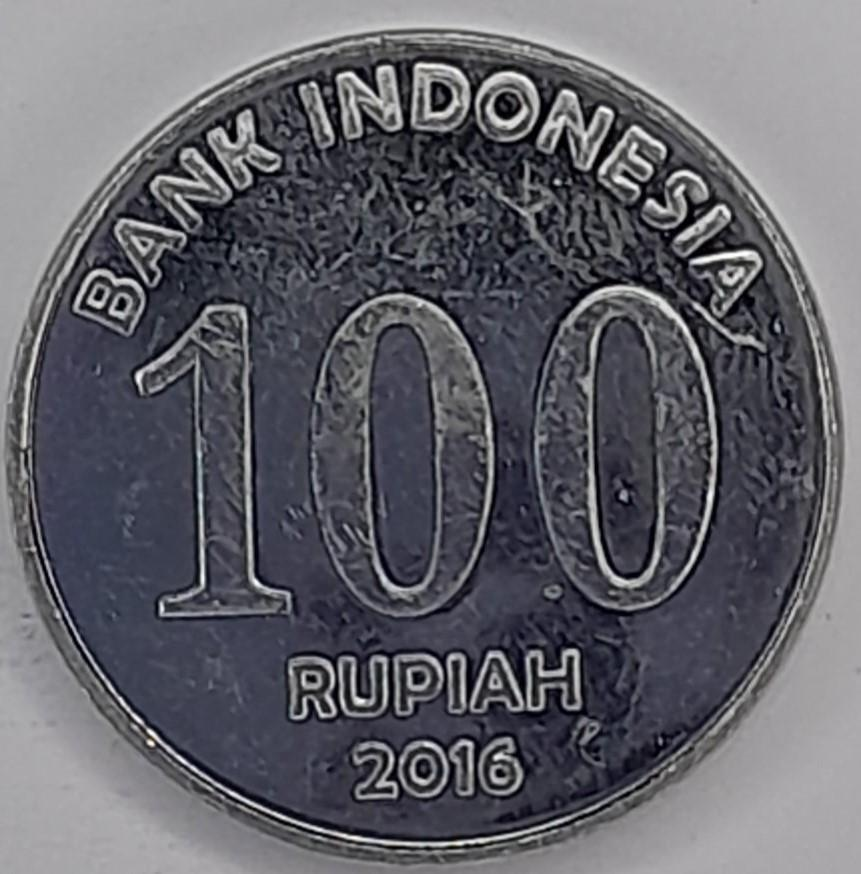coin_100_e2016: (0, 22, 848, 867)
